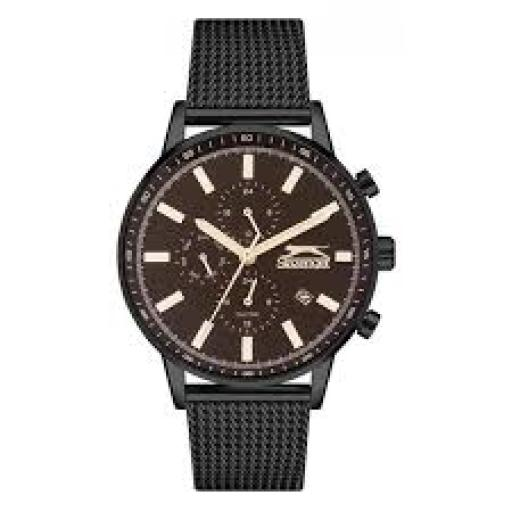KolSaati: (86, 17, 408, 512)
